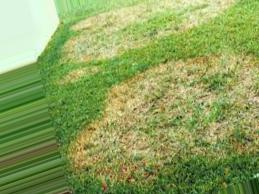patch: (117, 89, 198, 151), (183, 64, 253, 124), (80, 133, 152, 176), (120, 9, 178, 39), (76, 25, 116, 53), (178, 4, 206, 23)
